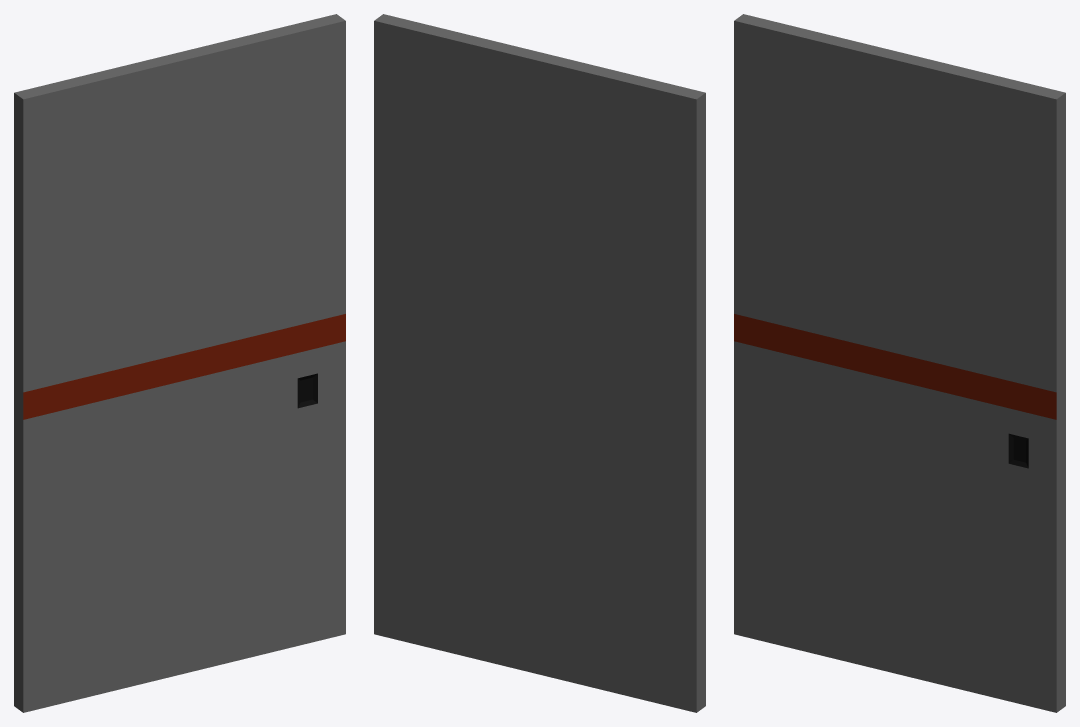
The model's file is Door1.FBX.
The picture shows the model from 3 angles, left to right: view 1: azimuth 30°, elevation 25°; view 2: azimuth 150°, elevation 25°; view 3: azimuth 330°, elevation 25°; orthographic projection.
Parts seen in each view (by area): view 1: door1; view 2: door1; view 3: door1.
Boxes of the visible parts, <box> form: door1: <box>14,14,345,712</box>; door1: <box>374,14,705,712</box>; door1: <box>734,14,1065,712</box>.
Bounding box in the file's own units: 43.31 × 78.74 × 2.15.
